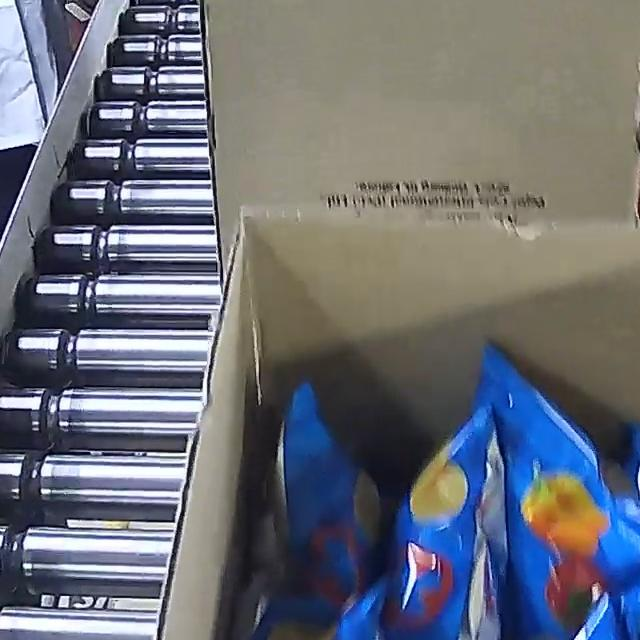paprika: (203, 340, 640, 640)
